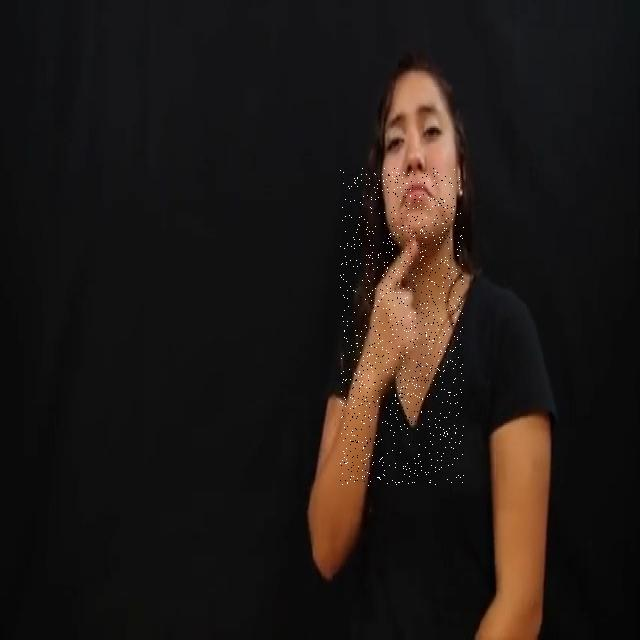bitter: (340, 168, 464, 486)
